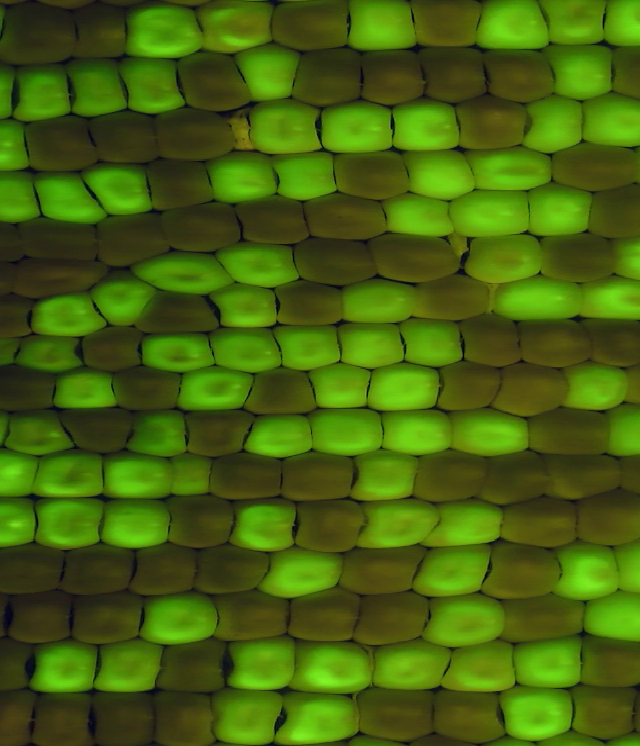fluorescent: (290, 637, 376, 701), (134, 589, 224, 645), (272, 692, 363, 746), (551, 539, 626, 600), (204, 687, 281, 746), (32, 170, 113, 226), (260, 550, 348, 601), (422, 593, 508, 645), (132, 249, 227, 296), (371, 638, 453, 692), (357, 497, 445, 547), (410, 544, 496, 595), (121, 9, 206, 60), (497, 687, 577, 741), (29, 494, 106, 550), (226, 636, 300, 694), (465, 144, 556, 191), (76, 161, 155, 215), (26, 638, 99, 696), (201, 1, 275, 58), (243, 99, 321, 153), (315, 100, 396, 152), (510, 636, 588, 690), (448, 191, 537, 238), (425, 498, 507, 549), (487, 279, 586, 321), (398, 147, 481, 197), (461, 232, 545, 281), (343, 1, 423, 52), (447, 407, 533, 454), (93, 640, 167, 694), (546, 43, 616, 100), (232, 42, 299, 101), (98, 496, 174, 548), (309, 405, 385, 457), (474, 1, 551, 52), (394, 313, 468, 366), (228, 497, 300, 551), (386, 100, 462, 151), (212, 243, 302, 286), (369, 361, 443, 413), (207, 151, 283, 201), (122, 55, 186, 114), (208, 325, 285, 374), (29, 291, 111, 337), (11, 62, 76, 120), (2, 404, 73, 457), (526, 181, 593, 237), (269, 320, 347, 368), (333, 319, 409, 368), (66, 55, 124, 119), (338, 279, 424, 322), (377, 404, 452, 453), (349, 451, 422, 501), (445, 642, 518, 692), (521, 98, 586, 154), (239, 411, 316, 458), (378, 195, 458, 240), (177, 366, 255, 412), (135, 330, 216, 374), (34, 450, 108, 498), (206, 285, 282, 331), (89, 274, 156, 326), (100, 453, 174, 499), (16, 331, 90, 377), (271, 151, 339, 201), (563, 363, 631, 412), (305, 364, 375, 410), (125, 407, 188, 458), (573, 275, 640, 321), (581, 94, 640, 146), (581, 589, 640, 641), (542, 1, 606, 48), (53, 368, 121, 410), (0, 169, 42, 223), (0, 495, 42, 549), (0, 447, 41, 497), (601, 1, 640, 51), (168, 454, 214, 494), (605, 403, 640, 454), (0, 118, 33, 171), (609, 233, 640, 285)
nonfluorescent: (365, 228, 461, 284), (336, 541, 428, 597), (0, 2, 77, 68), (353, 587, 435, 647), (484, 540, 563, 602), (425, 683, 514, 738), (21, 113, 105, 171), (357, 683, 441, 741), (445, 97, 535, 151), (327, 147, 415, 201), (492, 358, 572, 417), (289, 584, 365, 646), (161, 197, 245, 253), (414, 42, 492, 102), (147, 106, 237, 158), (174, 51, 254, 109), (177, 404, 256, 462), (477, 44, 560, 99), (92, 209, 171, 266), (294, 494, 369, 554), (18, 212, 98, 268), (498, 497, 580, 551), (154, 640, 236, 694), (492, 594, 588, 640), (302, 191, 392, 240), (294, 45, 364, 107), (522, 407, 614, 454), (234, 192, 314, 246), (563, 682, 640, 738), (545, 143, 640, 188), (296, 234, 375, 288), (200, 451, 285, 501), (355, 47, 428, 105), (537, 232, 616, 285), (53, 405, 135, 456), (9, 253, 104, 297), (88, 108, 162, 164), (164, 492, 238, 548), (150, 688, 221, 746), (269, 1, 351, 51), (88, 684, 155, 745), (412, 448, 489, 501), (214, 586, 291, 639), (5, 588, 75, 646), (141, 155, 222, 205), (538, 449, 624, 496), (28, 686, 95, 746), (519, 310, 588, 368), (0, 544, 74, 598), (278, 452, 359, 501), (576, 632, 640, 694), (135, 290, 223, 335), (412, 274, 496, 321), (69, 591, 146, 642), (108, 362, 186, 412), (63, 545, 137, 597), (481, 452, 554, 504), (434, 360, 503, 414), (70, 2, 130, 64), (192, 546, 272, 592), (244, 366, 316, 417), (454, 314, 521, 368), (276, 278, 344, 330), (132, 543, 200, 595), (410, 1, 483, 48), (573, 495, 640, 544), (583, 183, 640, 239), (81, 325, 150, 370), (0, 361, 59, 413), (584, 314, 640, 365), (0, 684, 37, 745), (606, 41, 640, 103), (0, 637, 37, 693), (0, 291, 35, 338)
